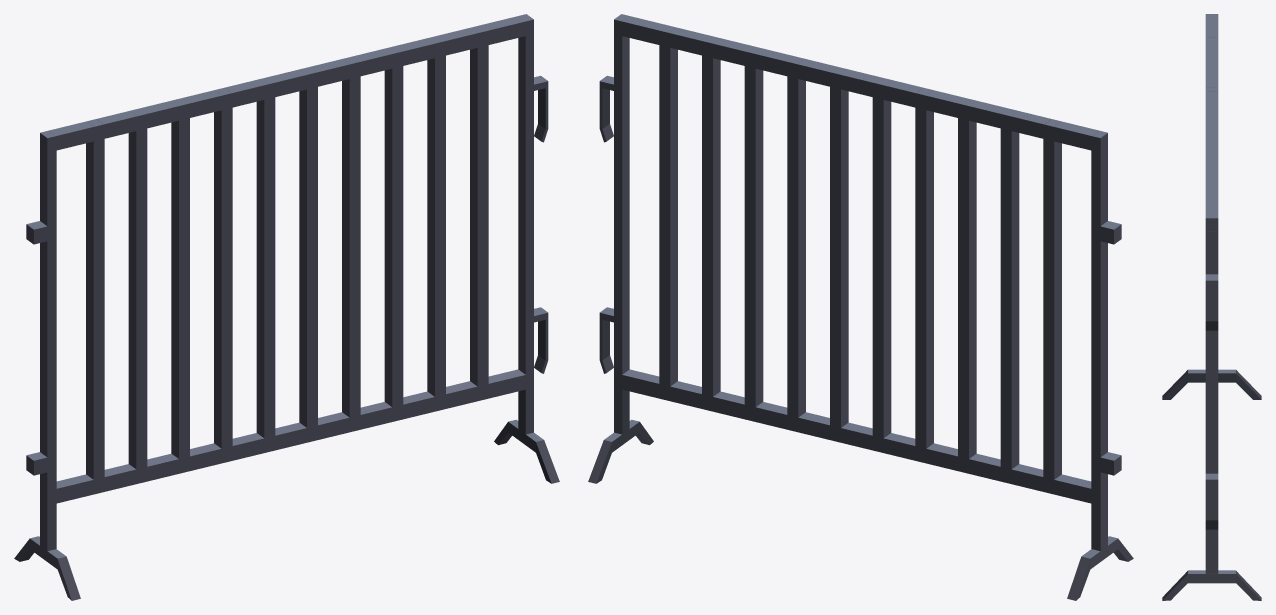
The model's file is PagerBesi.fbx.
3 renders of one model, left to right at view 1: azimuth 30°, elevation 25°; view 2: azimuth 150°, elevation 25°; view 3: azimuth 270°, elevation 25°, orthographic. The views are drawn at different scales.
Parts seen in each view (by area): view 1: Pagar besi.001; view 2: Pagar besi.001; view 3: Pagar besi.001.
Part boxes in pixels (x1=…): Pagar besi.001: x1=14, y1=14, x2=559, y2=600; Pagar besi.001: x1=588, y1=14, x2=1133, y2=600; Pagar besi.001: x1=1162, y1=14, x2=1261, y2=600.
Size of the model in its own units: 237 by 196 by 46.13.
